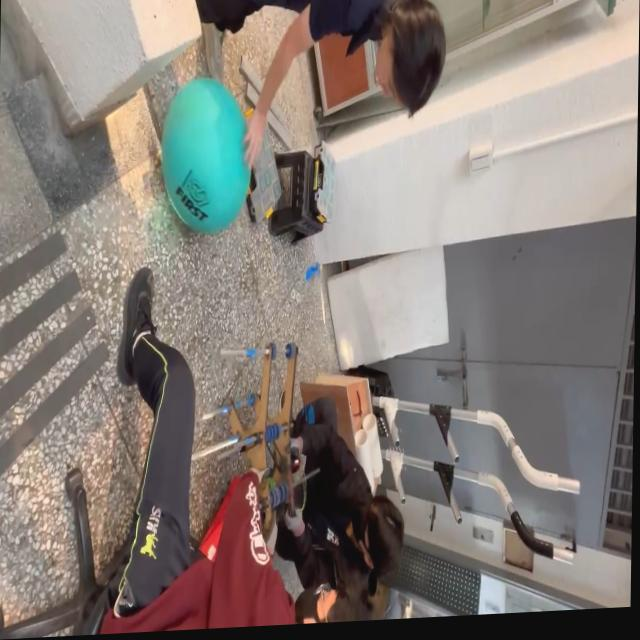ALGAE: (158, 71, 253, 238)
